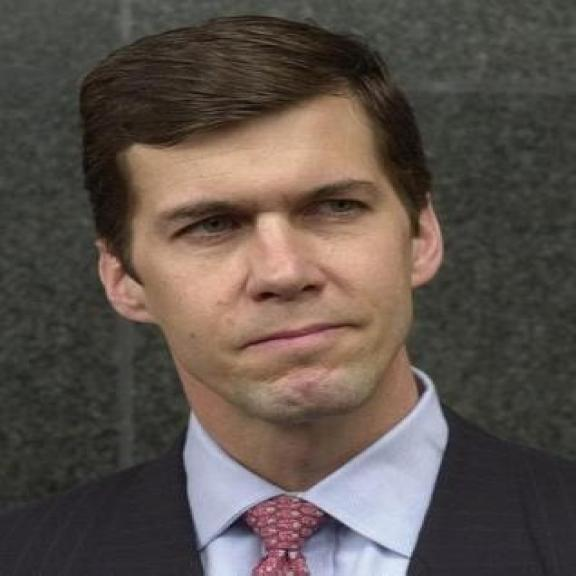face: (93, 99, 444, 417)
